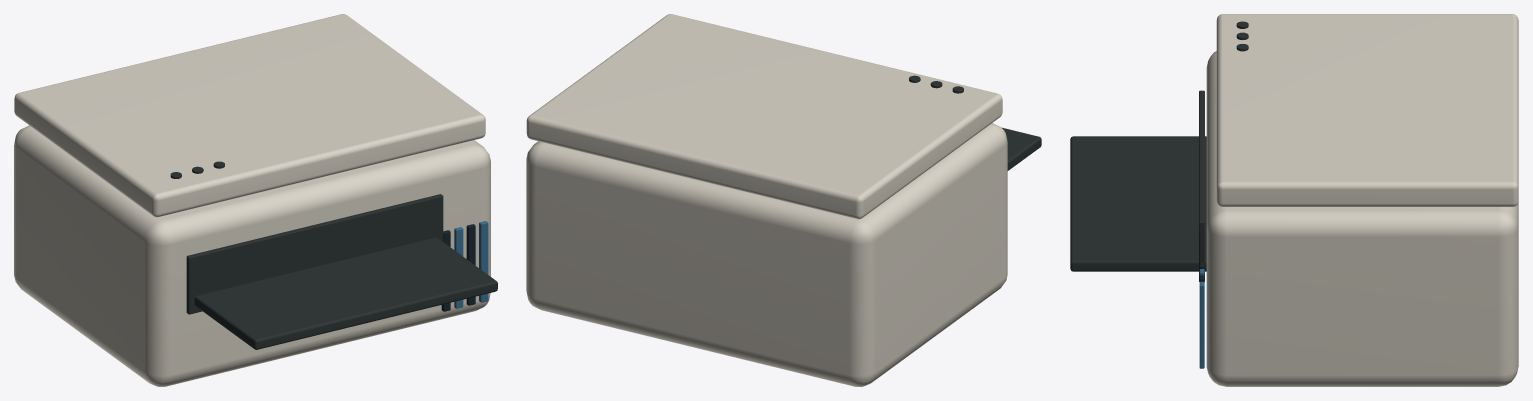
The model's file is crime-ink-printer.glb.
The picture shows the model from 3 angles, left to right: view 1: azimuth 30°, elevation 25°; view 2: azimuth 150°, elevation 25°; view 3: azimuth 270°, elevation 25°; orthographic projection. The views are drawn at different scales.
Visible parts, largest first — view 1: Scanner lid, Printer lower enclosure, Extended output shelf, Printer output throat, Ink reservoir viewing window.003, Ink reservoir viewing window.002; view 2: Printer lower enclosure, Scanner lid, Extended output shelf; view 3: Scanner lid, Printer lower enclosure, Extended output shelf, Printer output throat, Ink reservoir viewing window.003.
Boxes of the visible parts, left/top/right/bottom form: Scanner lid: left=14, top=14, right=485, bottom=217; Printer lower enclosure: left=14, top=125, right=490, bottom=386; Extended output shelf: left=194, top=237, right=497, bottom=349; Printer output throat: left=186, top=194, right=443, bottom=314; Ink reservoir viewing window.003: left=479, top=221, right=488, bottom=302; Ink reservoir viewing window.002: left=466, top=224, right=475, bottom=305; Printer lower enclosure: left=526, top=123, right=1007, bottom=386; Scanner lid: left=526, top=14, right=1002, bottom=219; Extended output shelf: left=1002, top=127, right=1041, bottom=170; Scanner lid: left=1216, top=14, right=1518, bottom=206; Printer lower enclosure: left=1206, top=51, right=1518, bottom=386; Extended output shelf: left=1070, top=136, right=1206, bottom=271; Printer output throat: left=1199, top=90, right=1204, bottom=281; Ink reservoir viewing window.003: left=1199, top=281, right=1204, bottom=368.
Size of the model in its own units: 0.414 by 0.2305 by 0.441.
4 materials, 4 textured.
